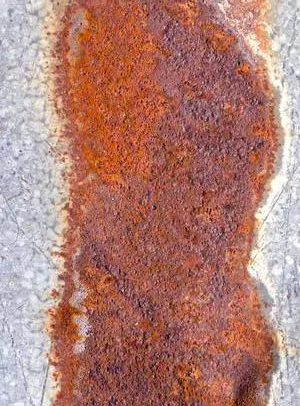Corrosion: (42, 1, 284, 406)
